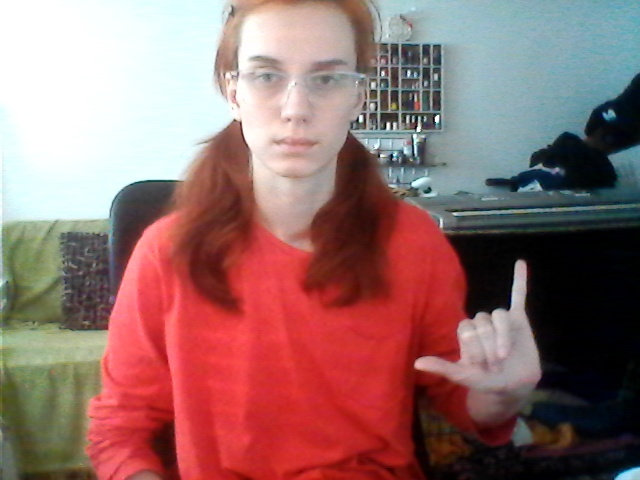kto: (405, 258, 551, 394)
